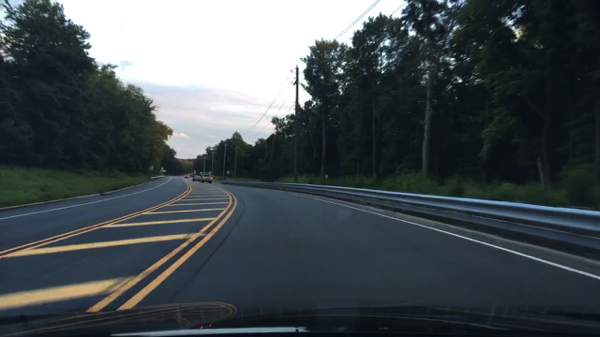car: (200, 172, 212, 184), (192, 176, 201, 181), (183, 175, 190, 179)
traffic sign: (149, 165, 154, 170), (227, 170, 230, 175)
